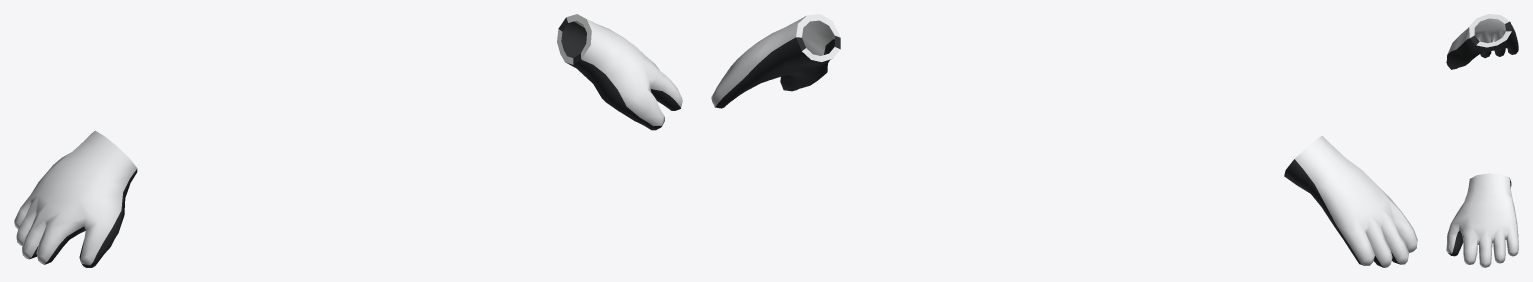
Rendered from Costume_3_03.glb.
The picture shows the model from 3 angles, left to right: view 1: azimuth 30°, elevation 25°; view 2: azimuth 150°, elevation 25°; view 3: azimuth 270°, elevation 25°; orthographic projection. The views are drawn at different scales.
Visible parts, largest first — view 1: Costume_3_03; view 2: Costume_3_03; view 3: Costume_3_03.
Part boxes in pixels (box(x1,y1,x2,y2)): Costume_3_03: box(14, 14, 682, 267); Costume_3_03: box(711, 14, 1417, 267); Costume_3_03: box(1446, 14, 1518, 267).
Bounding box in the file's own units: 0.8285 × 0.1244 × 0.1179.
1 material, 1 textured.
